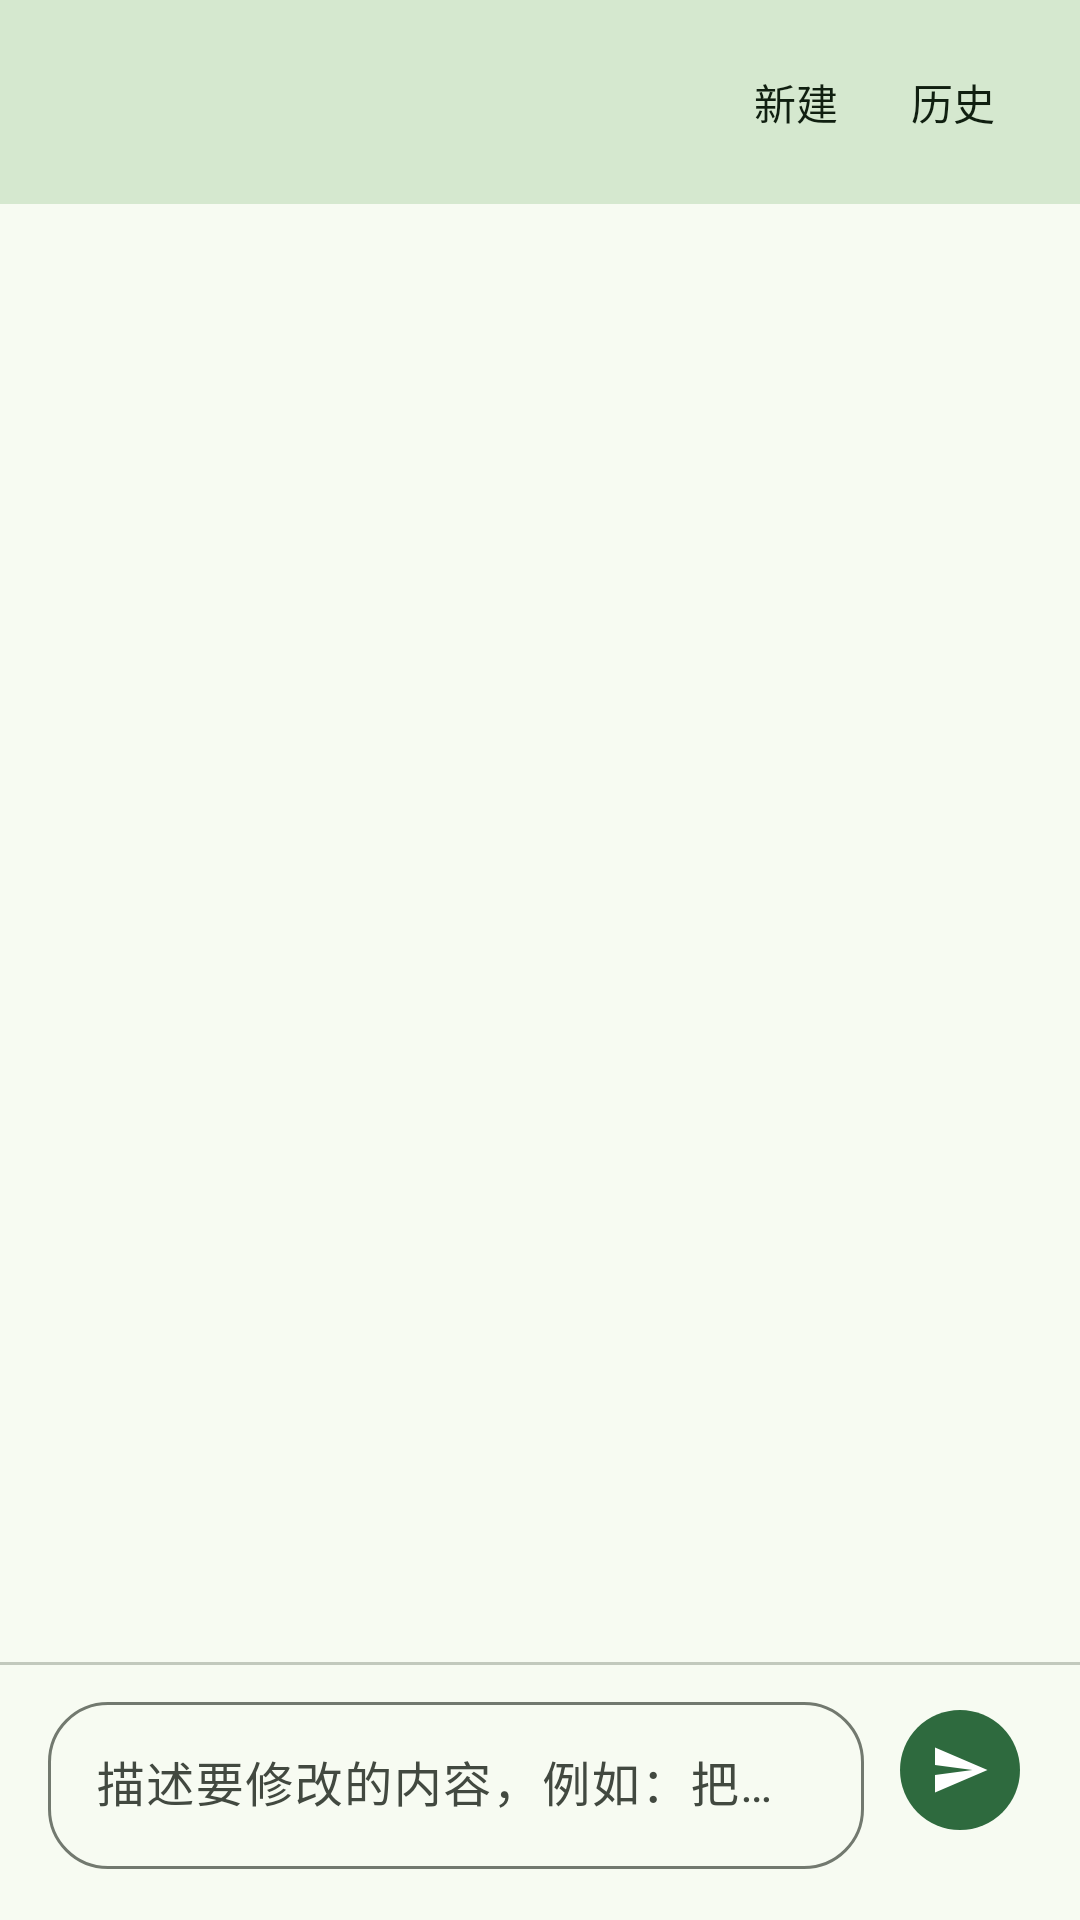

Icon bounding boxes for this 1080 x 1920 phone screenshot, format {"left": x1, "top": y1, "right": x2, "bottom": y2}:
发送: {"left": 900, "top": 1710, "right": 1020, "bottom": 1830}
